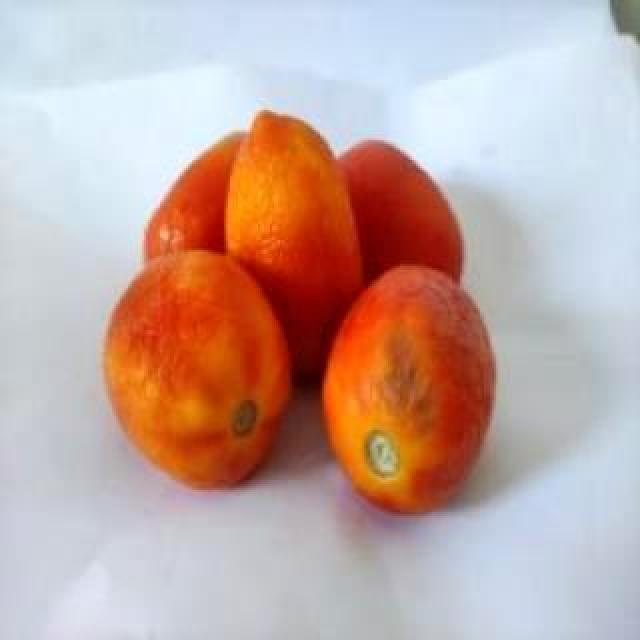Rotten_Tomato: (310, 252, 506, 520), (100, 246, 296, 502), (216, 102, 374, 388), (318, 126, 474, 300)
